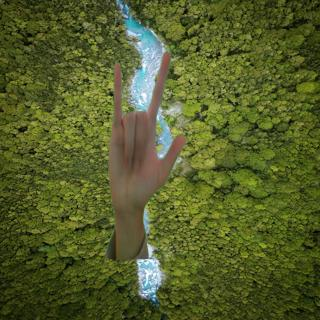ILY: (106, 50, 190, 220)
